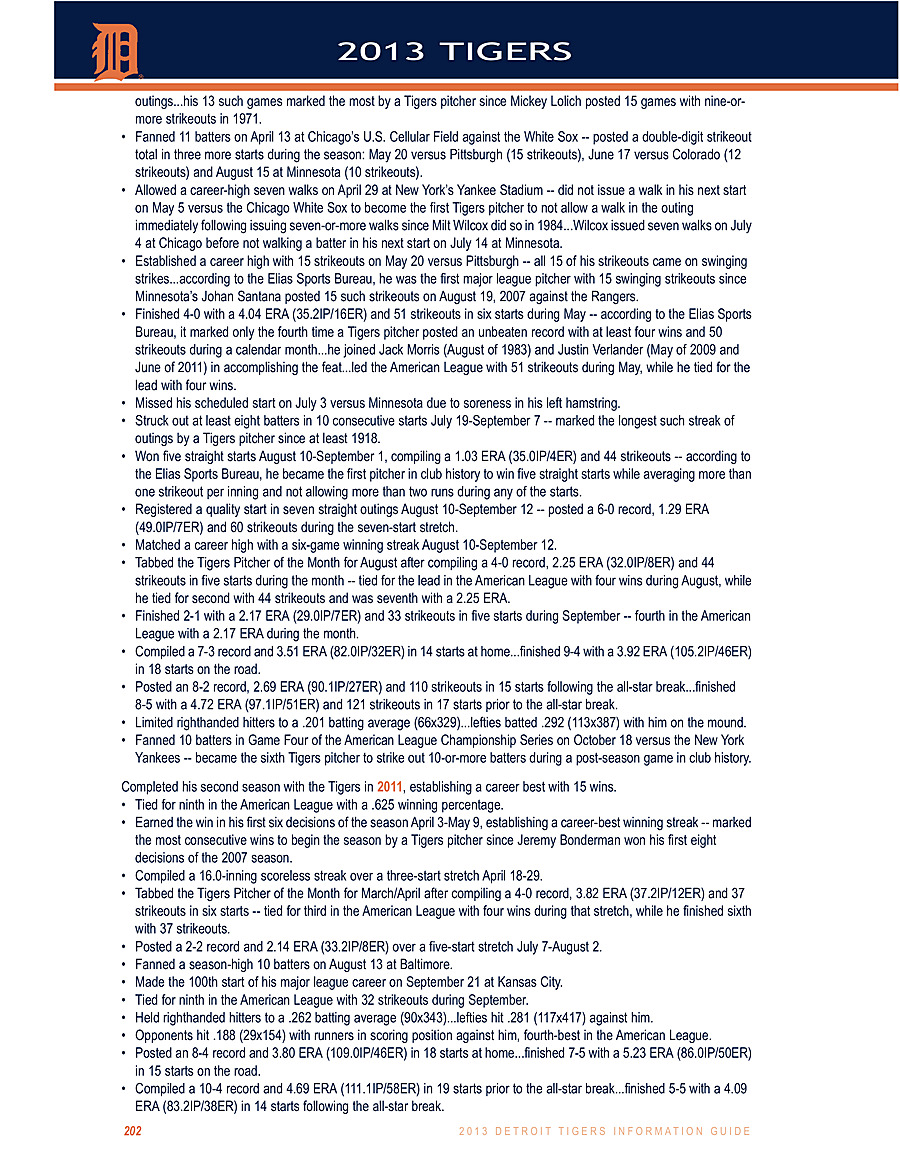list: (117, 93, 780, 767), (110, 806, 778, 1123)
section: (338, 26, 580, 76)
text: (111, 772, 629, 801)
